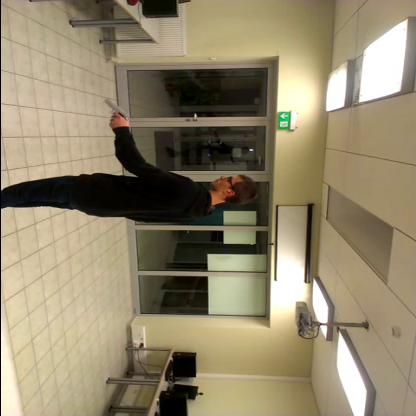Pistol: (91, 95, 134, 124)
